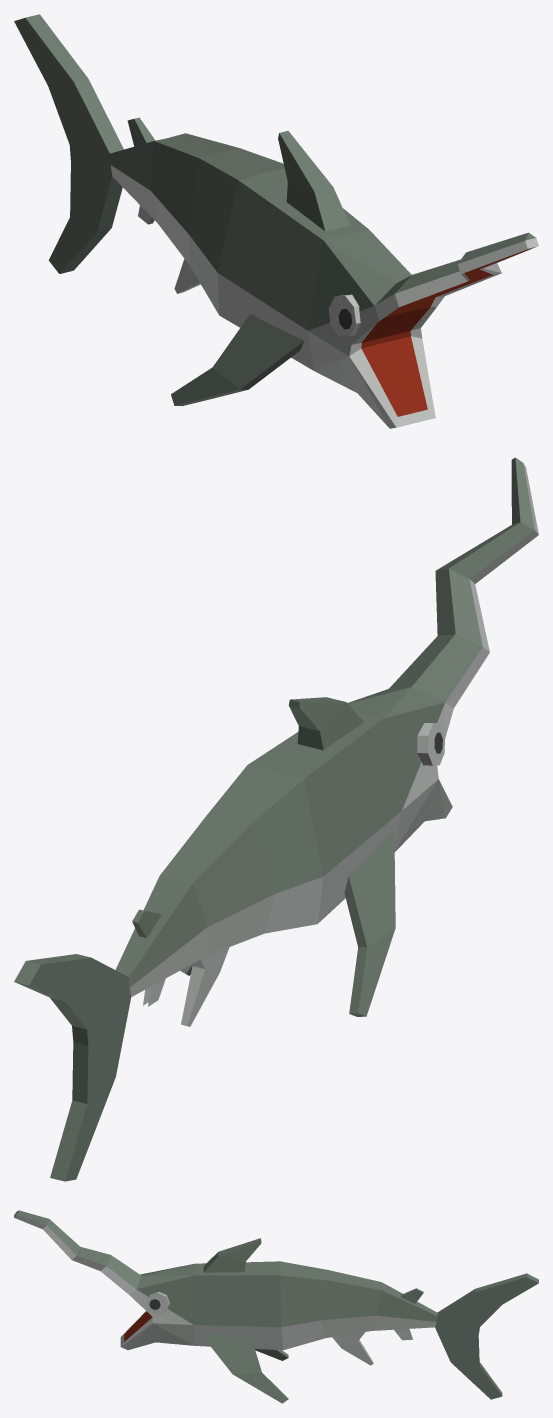
Rendered from swordfish_swim_shocked.fbx.
3 renders of one model, top to bottom at view 1: azimuth 30°, elevation 25°; view 2: azimuth 150°, elevation 25°; view 3: azimuth 270°, elevation 25°, orthographic. The views are drawn at different scales.
Visible parts, largest first — view 1: Cube.015; view 2: Cube.015; view 3: Cube.015.
Boxes of the visible parts, <box> form: Cube.015: <box>14,14,538,428</box>; Cube.015: <box>14,457,538,1181</box>; Cube.015: <box>14,1210,538,1403</box>.
Size of the model in its own units: 1.86 by 3.61 by 8.95.
